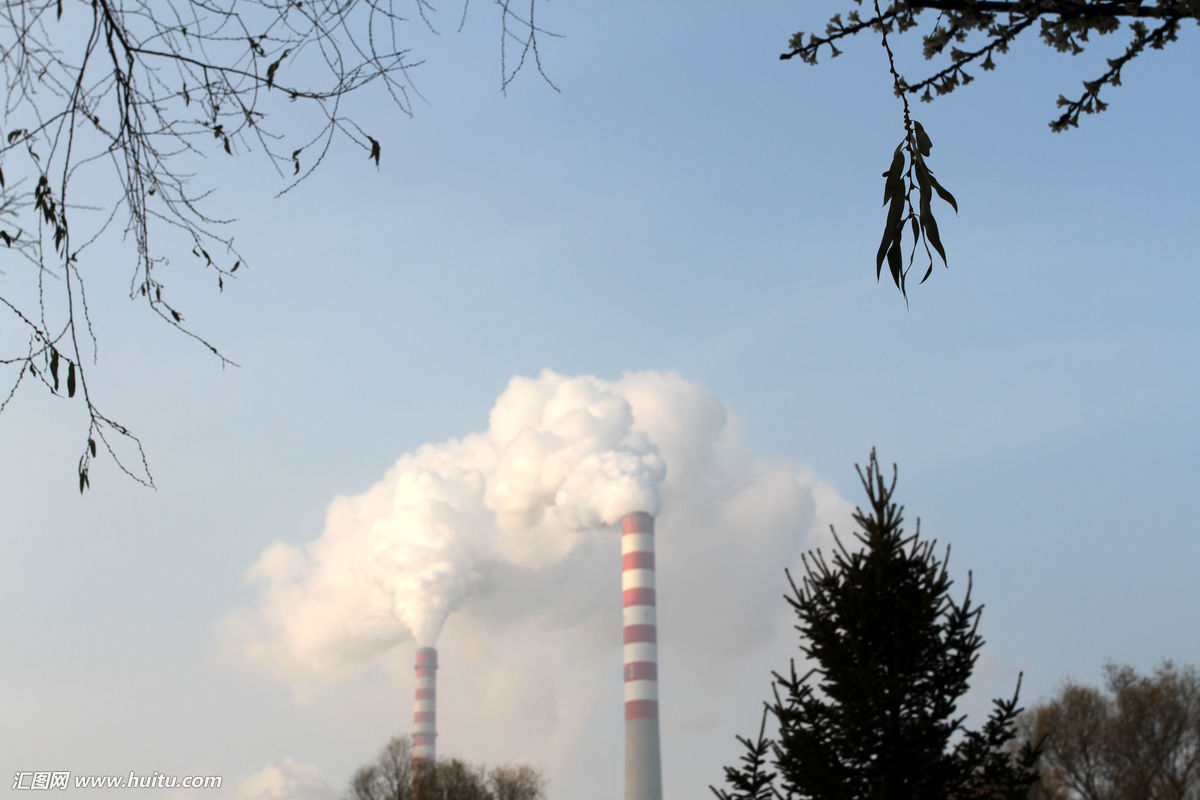dust: (299, 467, 524, 661), (468, 371, 683, 528)
